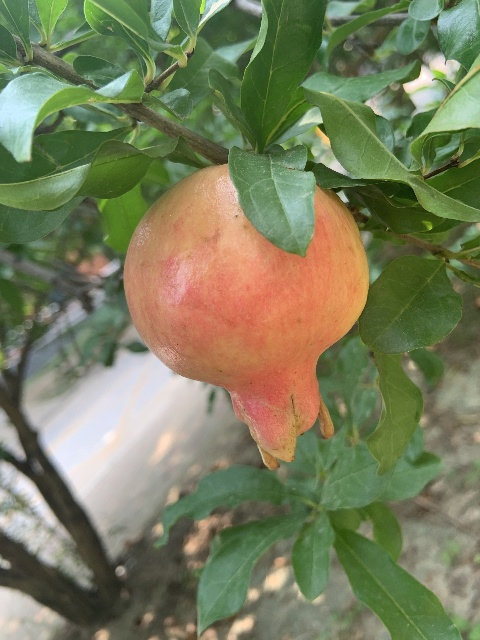ripe: (123, 164, 370, 470)
